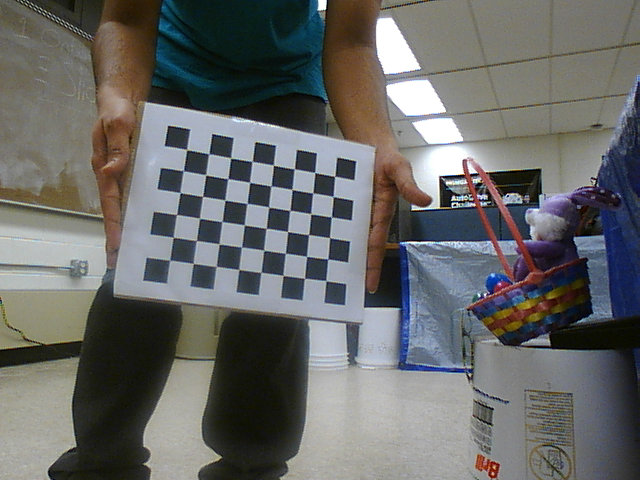bunny: (452, 150, 599, 348)
